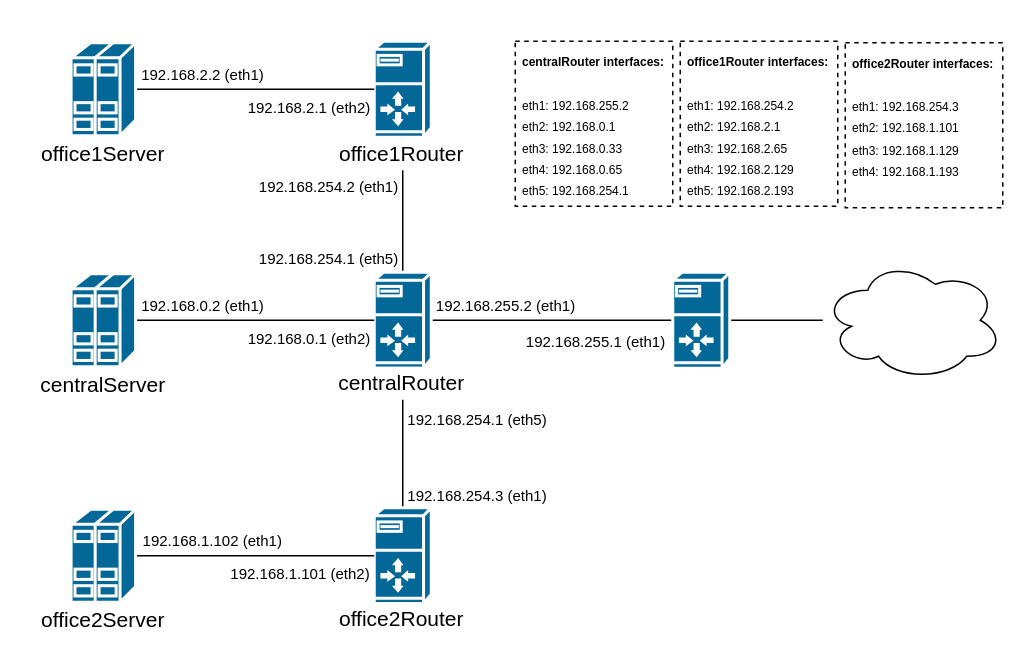
Some shapes in this 1029 by 662 pixel diagram are drawn without their labels. Here are the shapes that lost their labels. From the top down, the centre of each, then its label:
At (x=912, y=319): "Internet".
At (x=700, y=384): "inetRouter".
